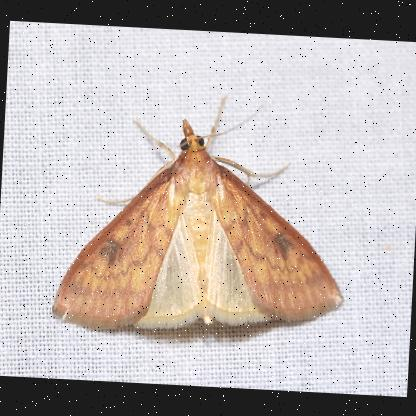Asian Corn Borer Moth: (48, 84, 356, 346)
